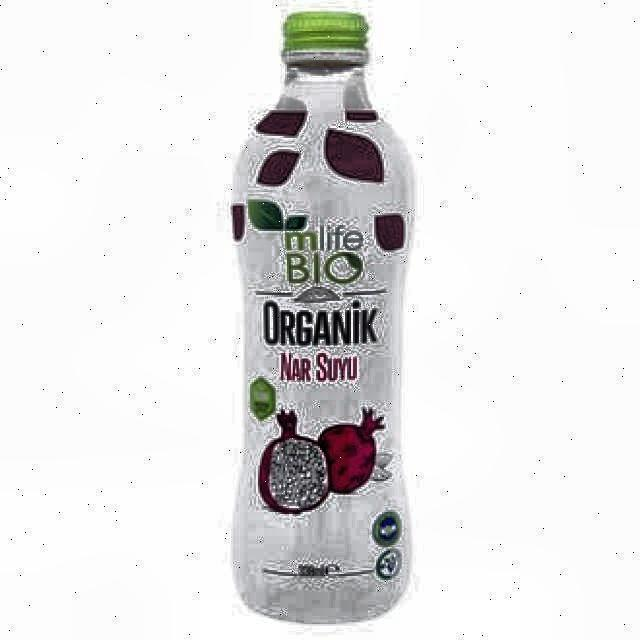glass: (227, 9, 419, 629)
